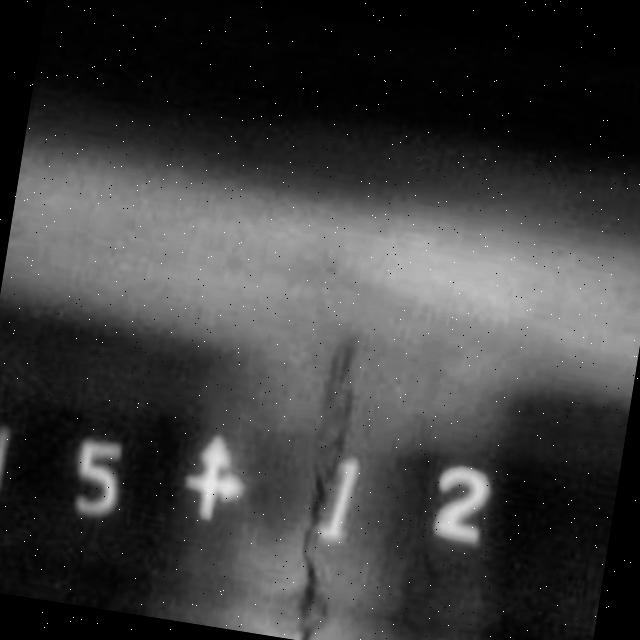Crack: (240, 307, 380, 640), (360, 423, 482, 640)
